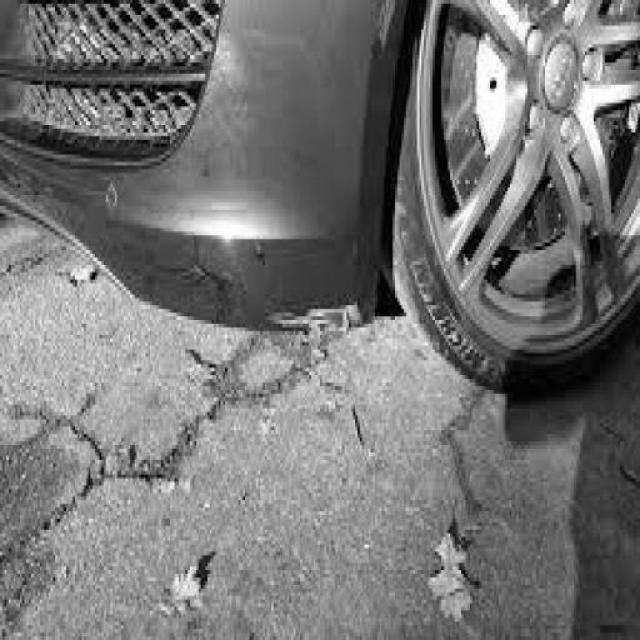scratch: (267, 302, 373, 333), (377, 1, 398, 52), (100, 189, 123, 219)
